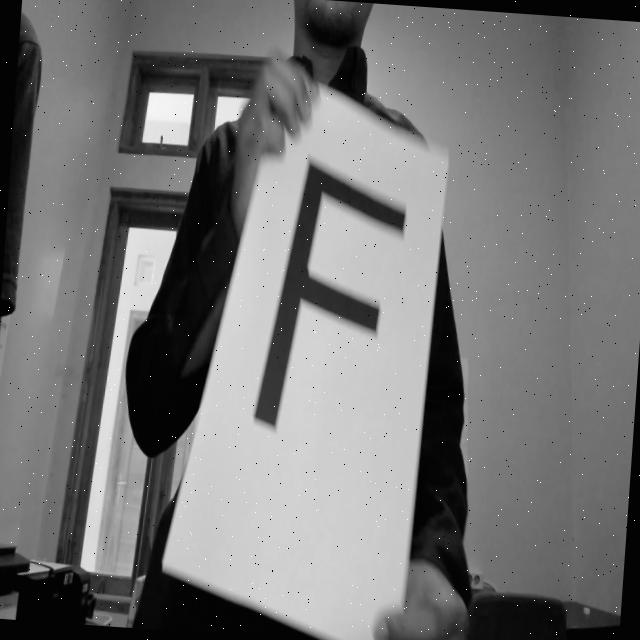f: (237, 137, 420, 481)
